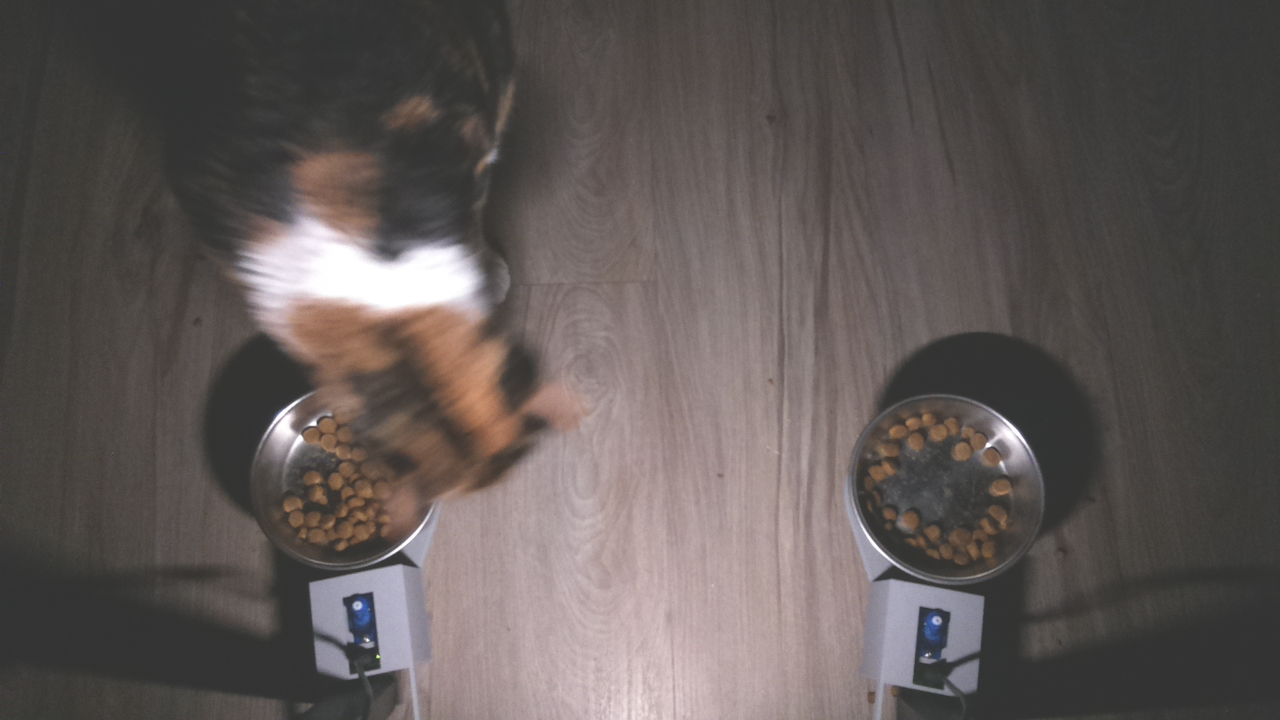bella: (226, 205, 597, 523)
open_bowl: (242, 369, 455, 576), (840, 385, 1051, 592)
